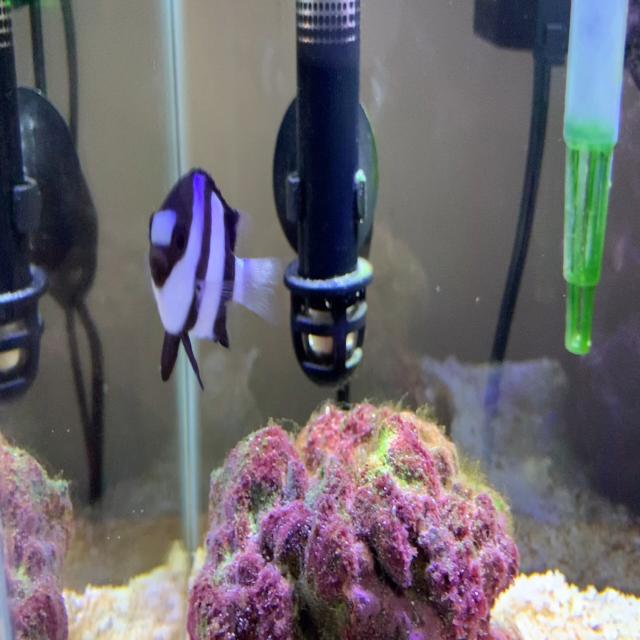ThreeStripedDamselfish: (149, 168, 281, 391)
